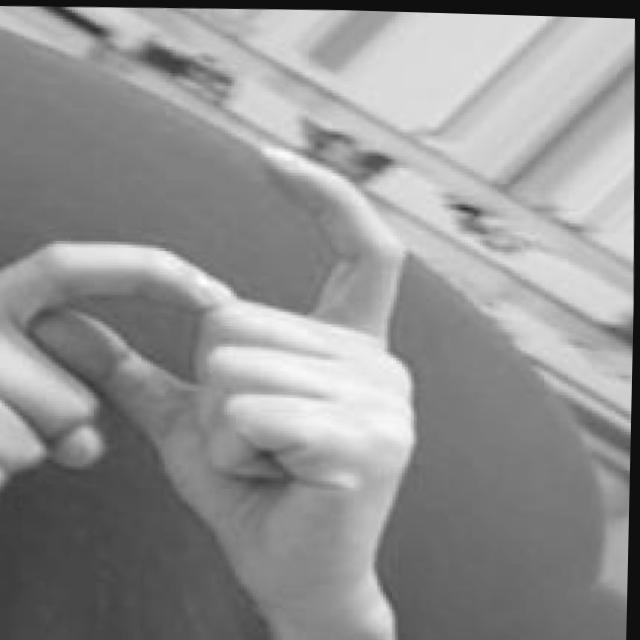G: (0, 128, 426, 640)
